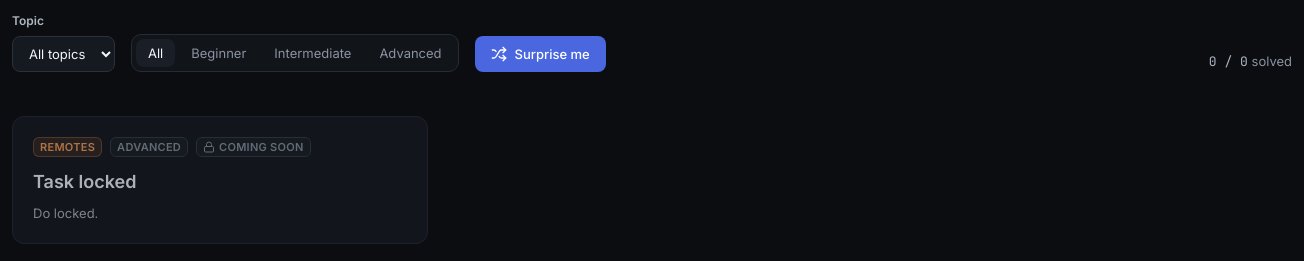
PracticeBrowser › says so when nothing playable matches
Step 1. Click the button with test id "surprise-me" → (540, 54), box [475,36,606,72]
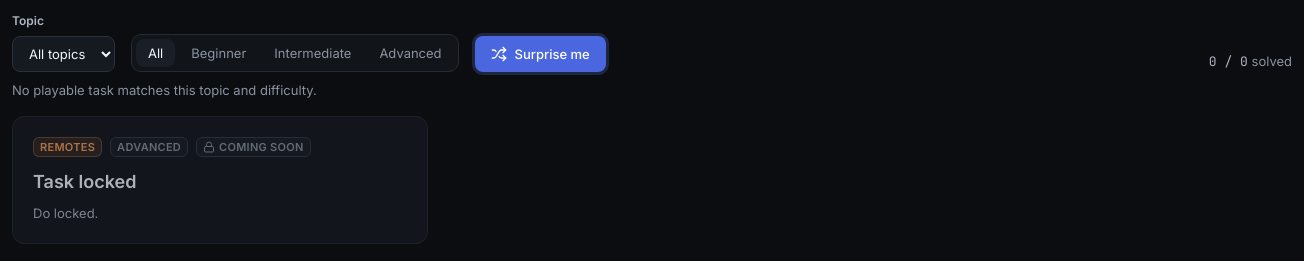
Result: the message shows "No playable task matches" at [12,82,317,98]
